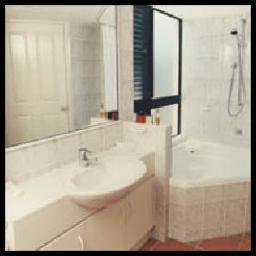Lavamanos: (59, 150, 143, 213)
